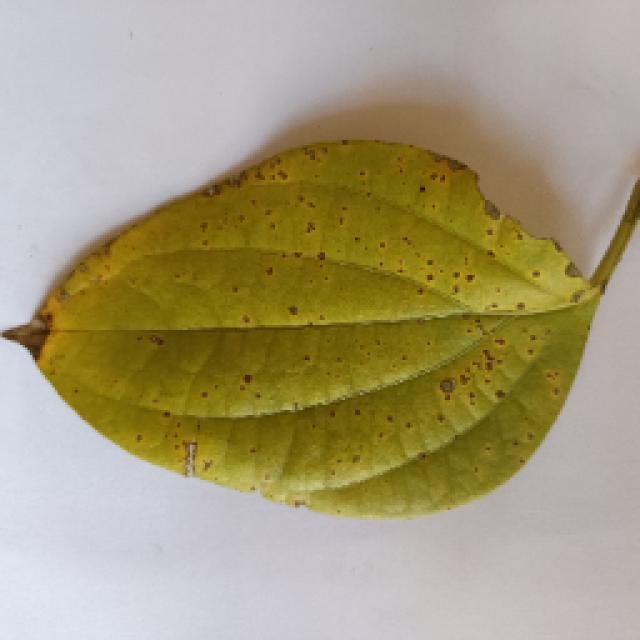slow-decline: (0, 130, 622, 517)
